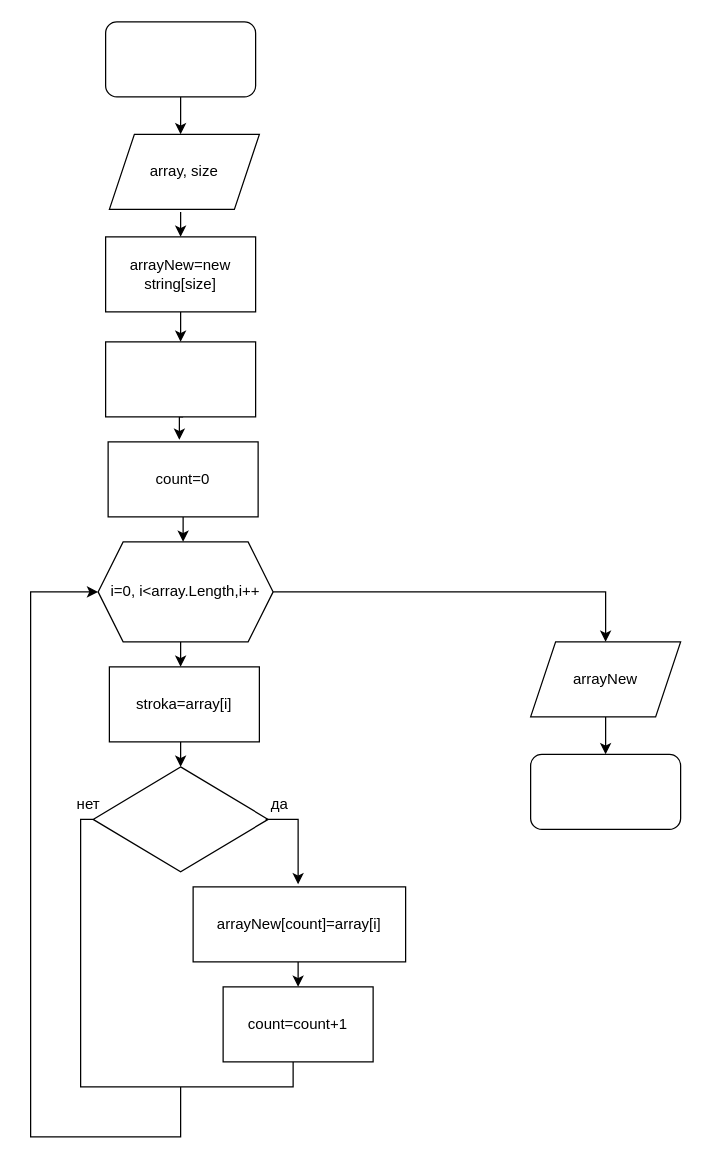
Image size: 703x1169. Some labels were removed from this diagram. The centre of each missing label's shape, as x and y in pixels:
"if stroka.Length<=3" goes at (180,819).
"stroka=Empty" goes at (180,379).
"конец" goes at (605,791).
"начало" goes at (180,59).
